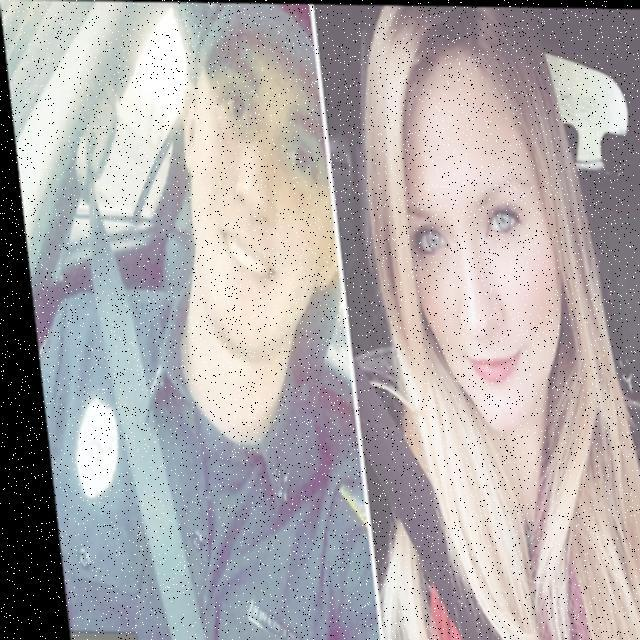seatbelt: (12, 134, 331, 637), (337, 243, 570, 640)
